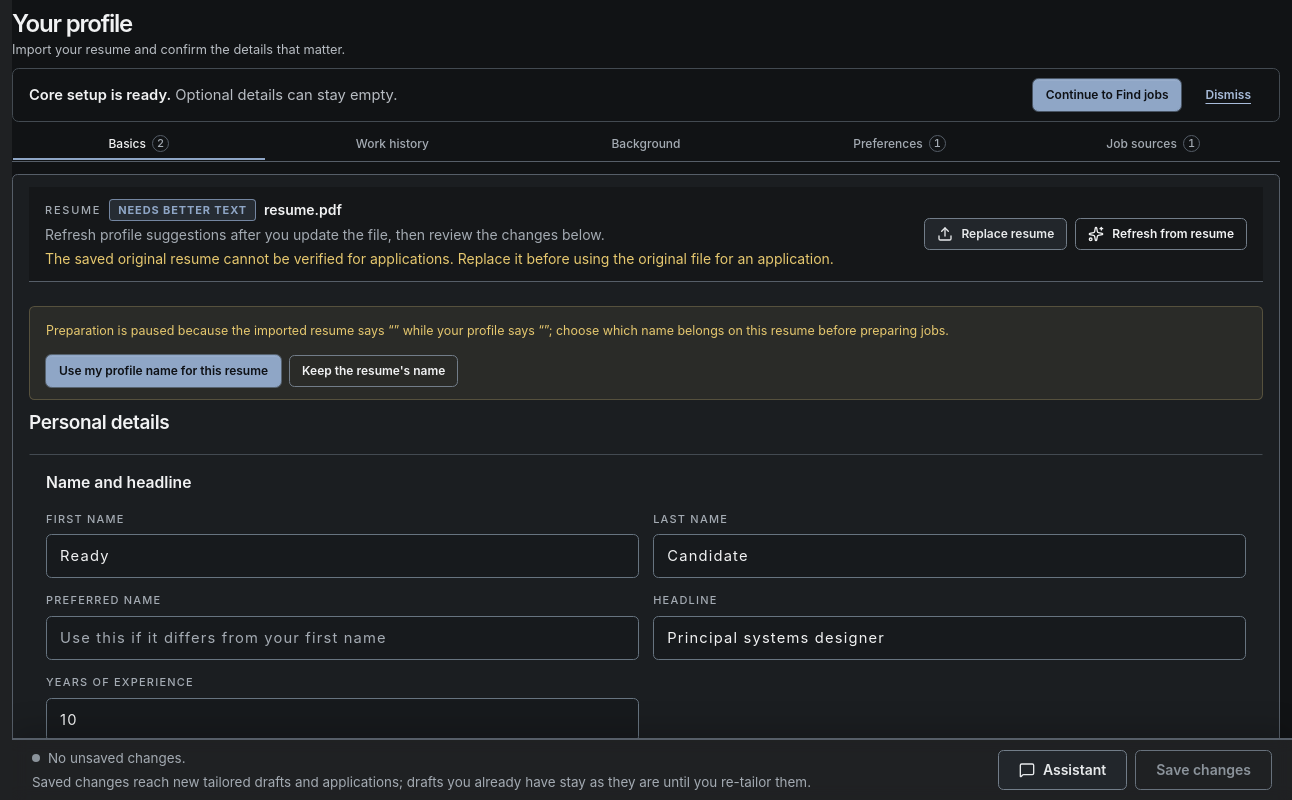
ProfileScreen ready-state density and save-bar footprint › reports the dirty state next to the pinned Save control
Expected: the element that starts with "No unsaved changes." is shown, top-left (48, 750), bottom-right (186, 766)
Replace the text in the field named "identity.firstName" with "ReadyX" at (342, 556), box top-left (46, 534), bottom-right (639, 578)
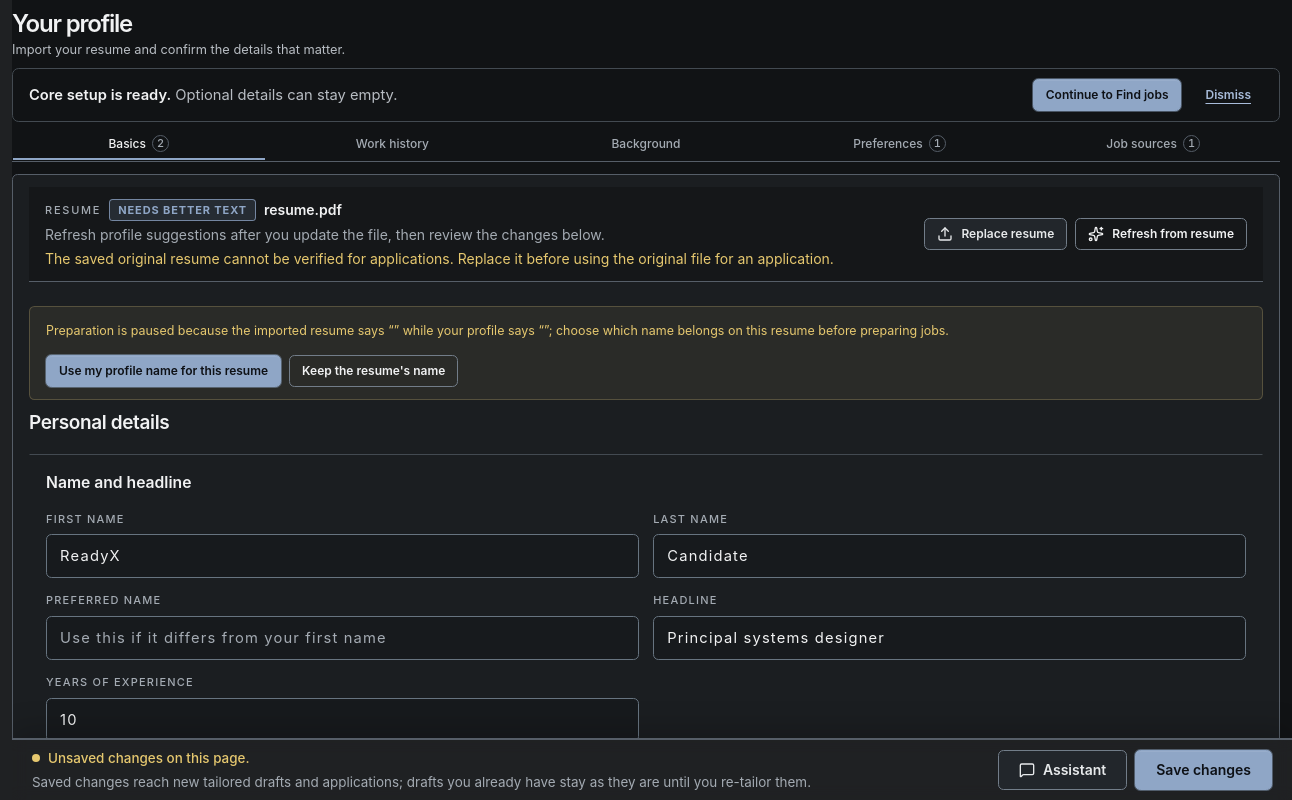
Now the element that starts with "Unsaved changes on this page." is shown, box top-left (48, 750), bottom-right (250, 766)
Now the button "Save changes" is enabled, box top-left (1135, 750), bottom-right (1272, 790)
